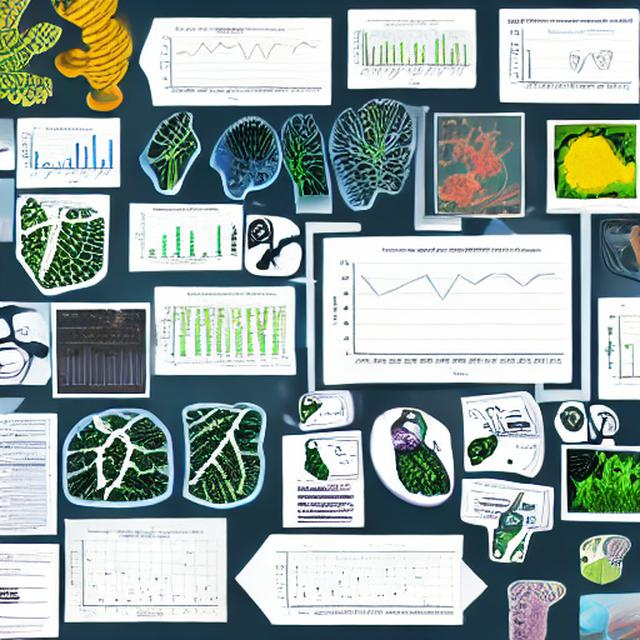Graph: (330, 238, 570, 380), (67, 528, 221, 618), (157, 24, 292, 102), (349, 15, 471, 87), (20, 126, 116, 184), (131, 208, 228, 265), (58, 340, 146, 394)
